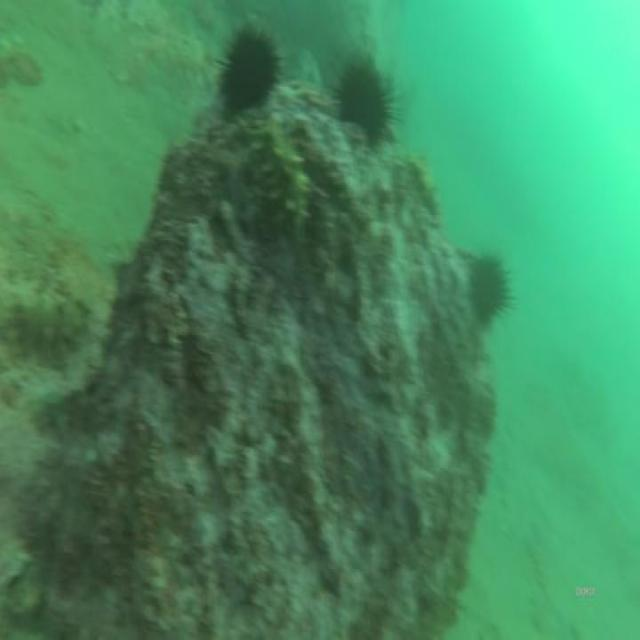echinus: (213, 22, 287, 120), (334, 47, 399, 144), (468, 246, 519, 332)
holothurian: (245, 116, 315, 240), (10, 289, 88, 362)
